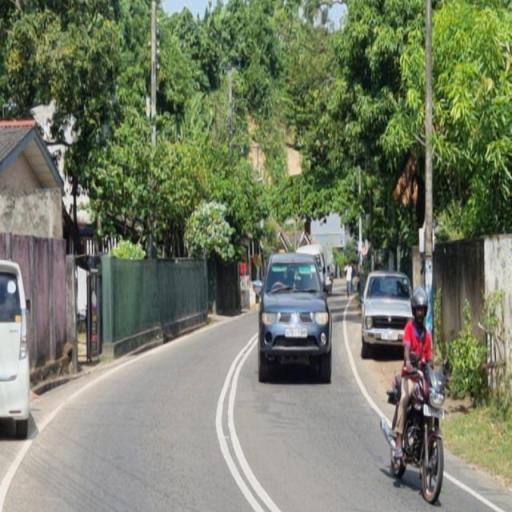double_white_line: (213, 332, 274, 512)
